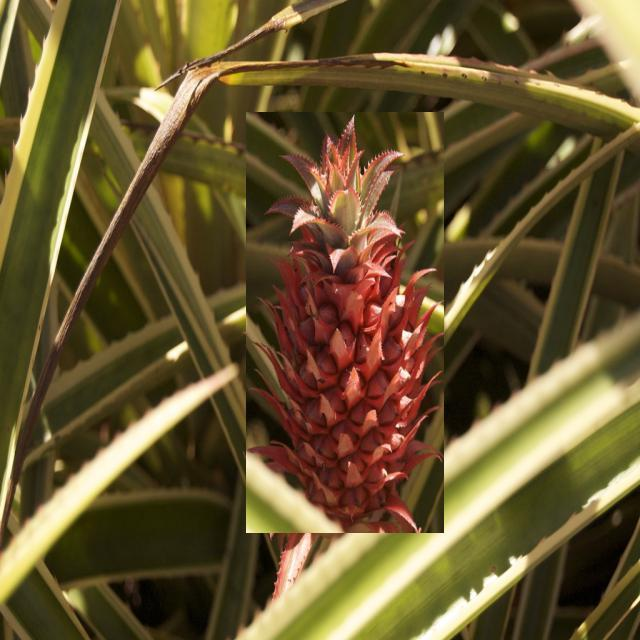Pineapple: (246, 112, 444, 533)
